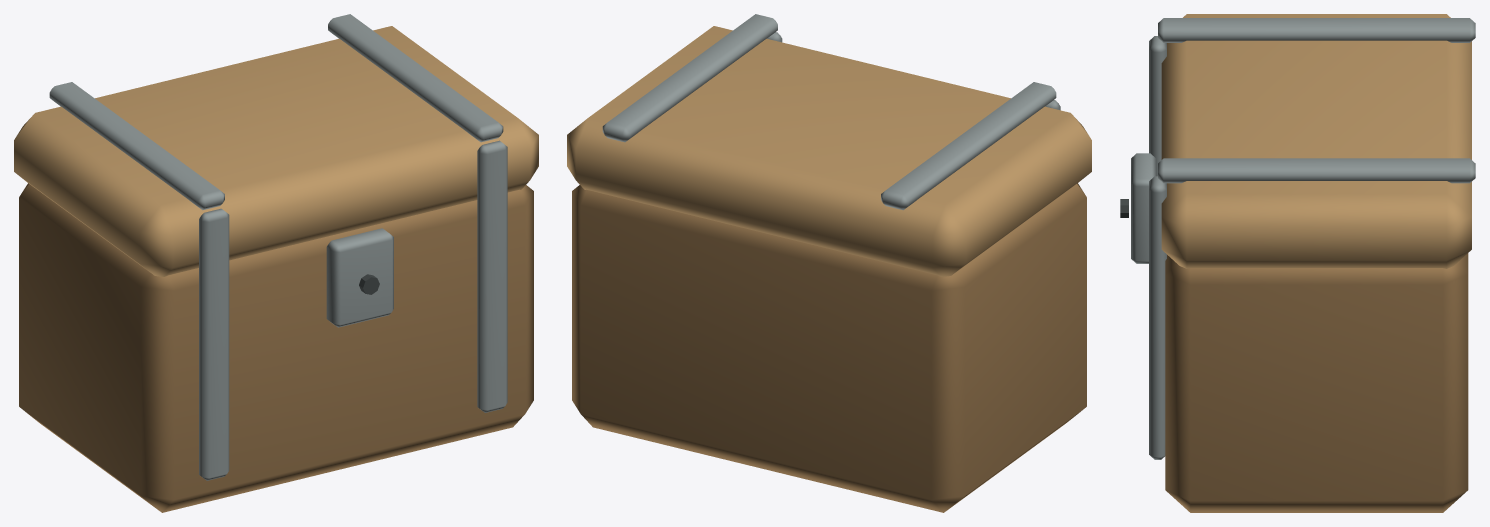
The model's file is prop_loot_chest.glb.
The picture shows the model from 3 angles, left to right: view 1: azimuth 30°, elevation 25°; view 2: azimuth 150°, elevation 25°; view 3: azimuth 270°, elevation 25°; orthographic projection. The views are drawn at different scales.
Visible parts, largest first — view 1: chest box, chest lid, chest iron strap, chest iron strap.001, lock plate, lid strap, lid strap.001; view 2: chest box, chest lid, lid strap, lid strap.001; view 3: chest box, chest lid, lid strap.001, lid strap, chest iron strap.001, lock plate, chest iron strap.
Boxes of the visible parts, x1,y1,x2,y2 form: chest box: (19, 183, 533, 512); chest lid: (14, 26, 538, 276); chest iron strap: (199, 208, 229, 480); chest iron strap.001: (477, 140, 507, 412); lock plate: (326, 228, 393, 327); lid strap: (49, 82, 224, 210); lid strap.001: (328, 14, 503, 142); chest box: (572, 183, 1086, 512); chest lid: (567, 26, 1091, 276); lid strap: (881, 82, 1056, 210); lid strap.001: (602, 14, 777, 142); chest box: (1165, 253, 1468, 512); chest lid: (1161, 14, 1471, 268); lid strap.001: (1158, 158, 1475, 183); lid strap: (1158, 18, 1475, 42); chest iron strap.001: (1149, 176, 1166, 459); lock plate: (1131, 153, 1155, 263); chest iron strap: (1149, 36, 1166, 176).
Size of the model in its own units: 0.66 by 0.5075 by 0.492.
